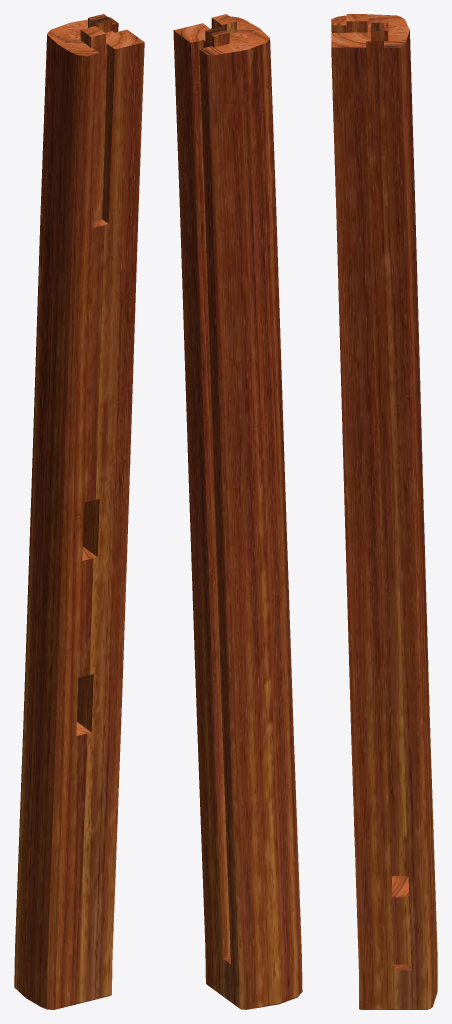
The model's file is GMY_J_qiantui_02.FBX.
The picture shows the model from 3 angles, left to right: view 1: azimuth 30°, elevation 25°; view 2: azimuth 210°, elevation 25°; view 3: azimuth 270°, elevation 25°; orthographic projection. The views are drawn at different scales.
Parts seen in each view (by area): view 1: GMY_J_qiantui_02; view 2: GMY_J_qiantui_02; view 3: GMY_J_qiantui_02.
Boxes of the visible parts, x1=… form: GMY_J_qiantui_02: x1=14, y1=14, x2=144, y2=1009; GMY_J_qiantui_02: x1=173, y1=14, x2=302, y2=1009; GMY_J_qiantui_02: x1=331, y1=14, x2=437, y2=1009.
Bounding box in the file's own units: 4.61 × 49.52 × 4.87.
